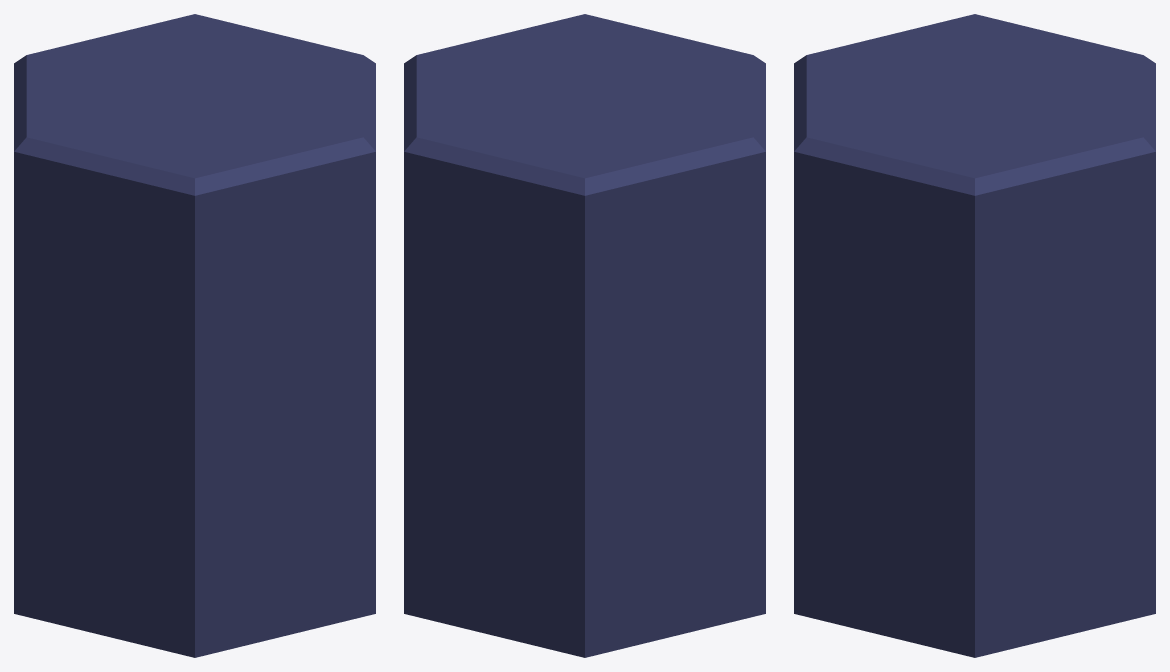
Rendered from hexa_world.fbx.
3 views of the same model, side by side, from view 1: azimuth 30°, elevation 25°; view 2: azimuth 150°, elevation 25°; view 3: azimuth 270°, elevation 25° (orthographic).
Parts seen in each view (by area): view 1: Cylinder; view 2: Cylinder; view 3: Cylinder.
Boxes of the visible parts, x1,y1,x2,y2 form: Cylinder: (14, 14, 375, 657); Cylinder: (404, 14, 765, 657); Cylinder: (794, 14, 1155, 657).
Bounding box in the file's own units: 200 × 250 × 173.
